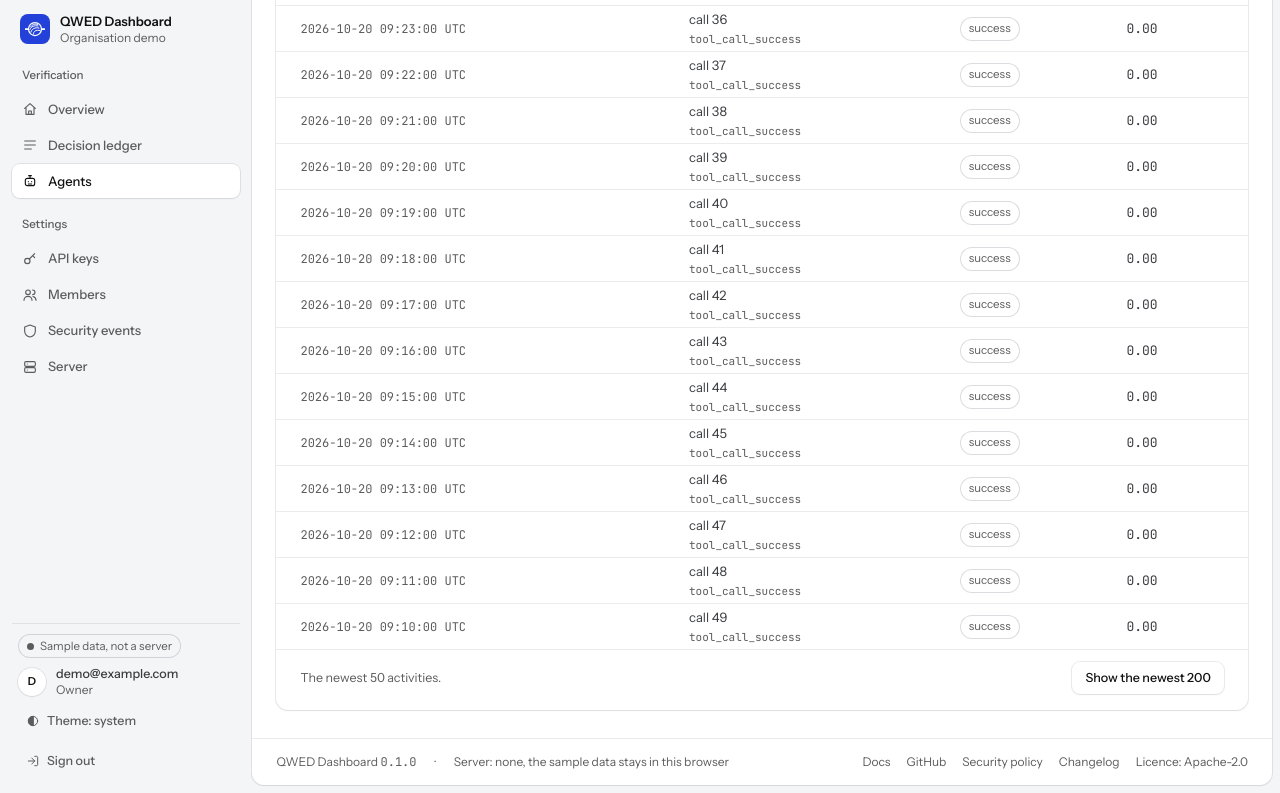
it: AgentPage › keeps the newest 50 shown while the 200 load, and when they fail
(page scrolled)
Click the button "Show the newest 200". click: (1148, 678)
box: [1072,662,1224,694]
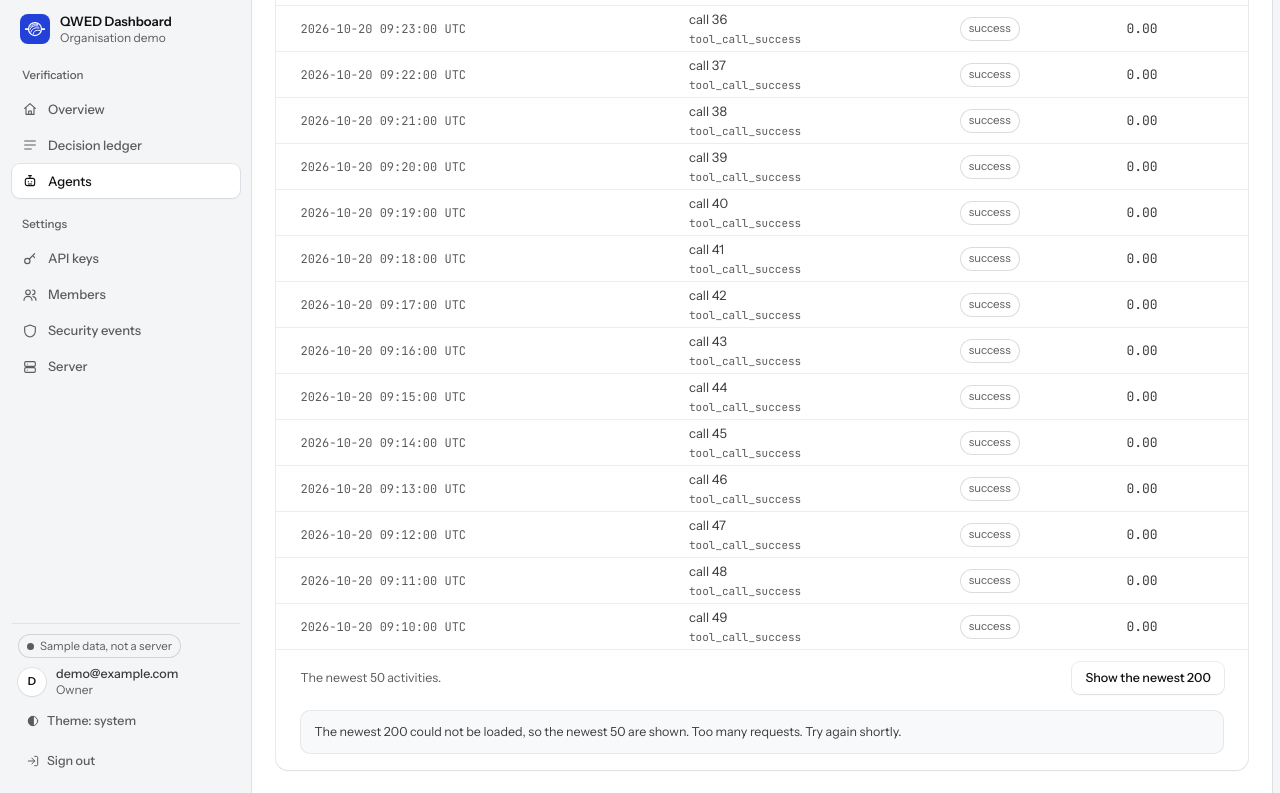
Result: the message shows "The newest 200 could not be loaded, so the newest 50 are shown. Too many requests. Try again shortly." at [300,710,1224,754]
